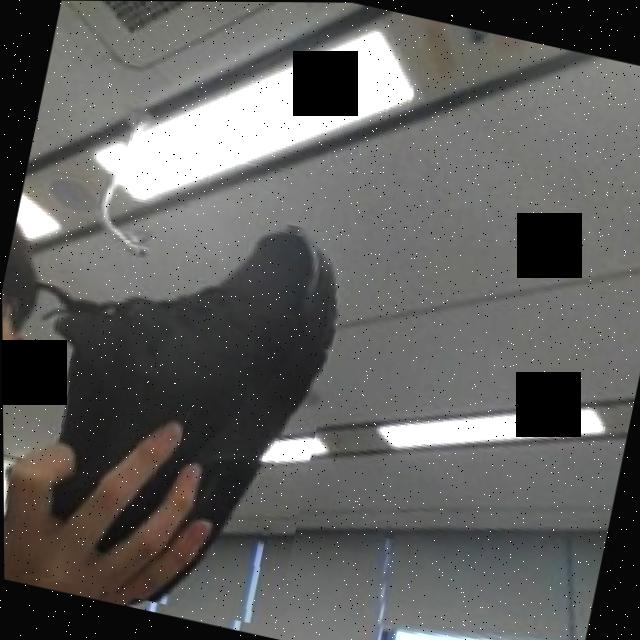shoe: (1, 178, 357, 629)
